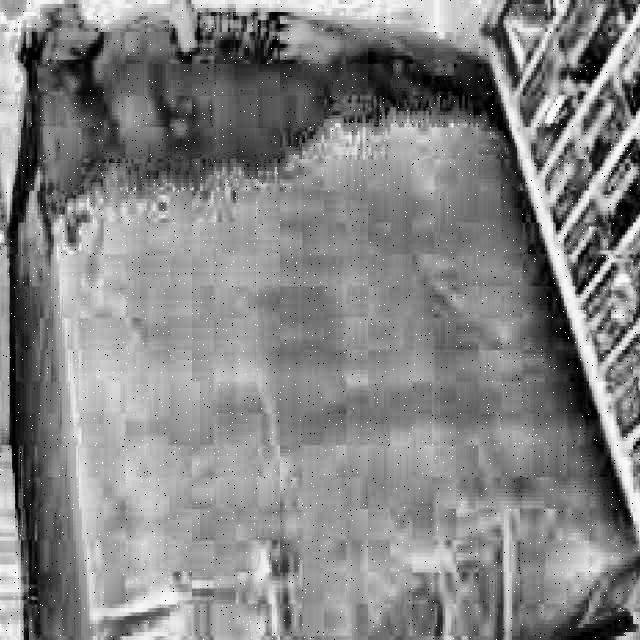box: (1, 2, 640, 640)
wet: (0, 1, 512, 201)
